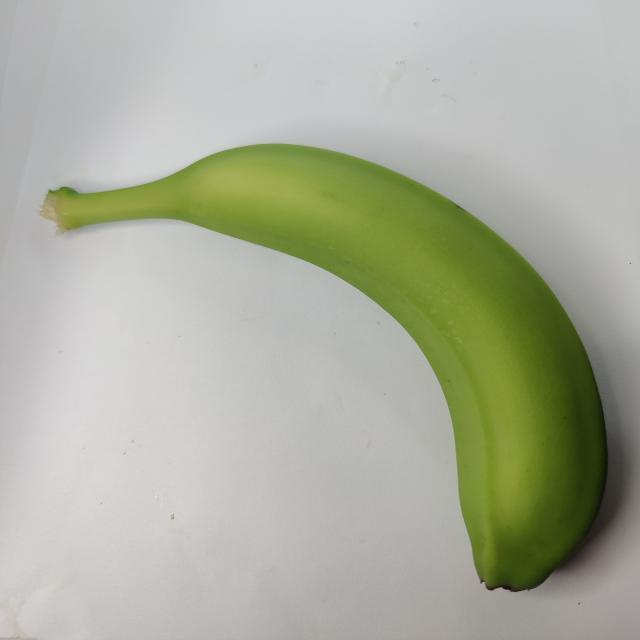raw: (32, 109, 619, 598)
